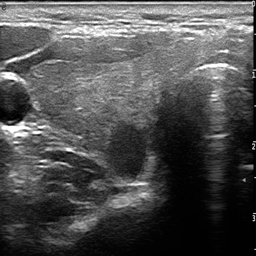mass: (105, 120, 148, 180)
